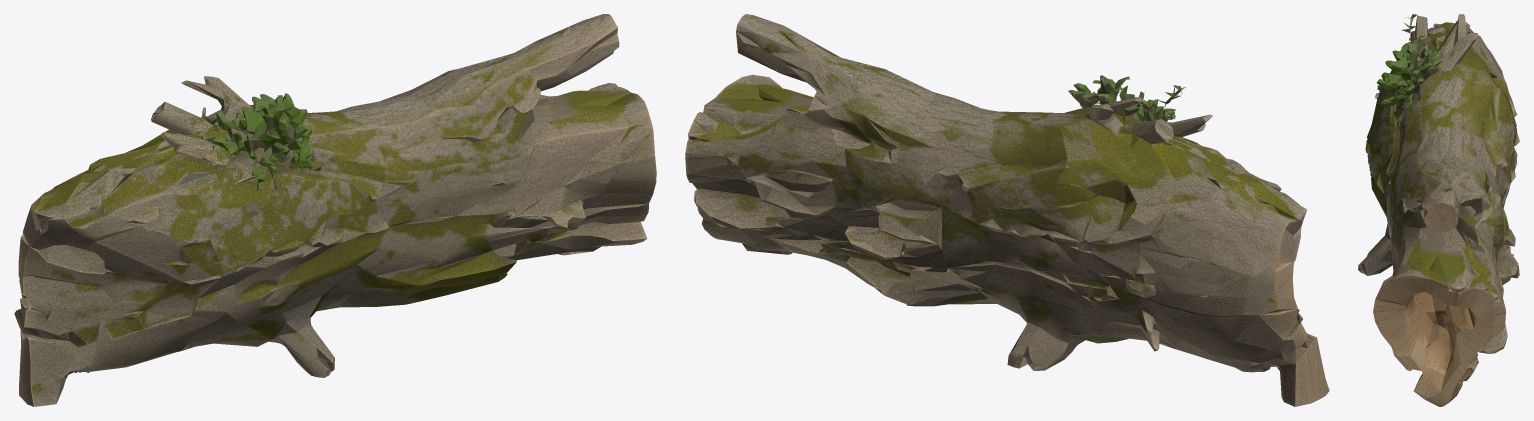
Rendered from fallen_log.glb.
3 renders of one model, left to right at view 1: azimuth 30°, elevation 25°; view 2: azimuth 150°, elevation 25°; view 3: azimuth 270°, elevation 25°, orthographic. The views are drawn at different scales.
Bounding box in the file's own units: 1.9 × 0.7949 × 0.5185.
Materials: 1 (1 with a texture image).
